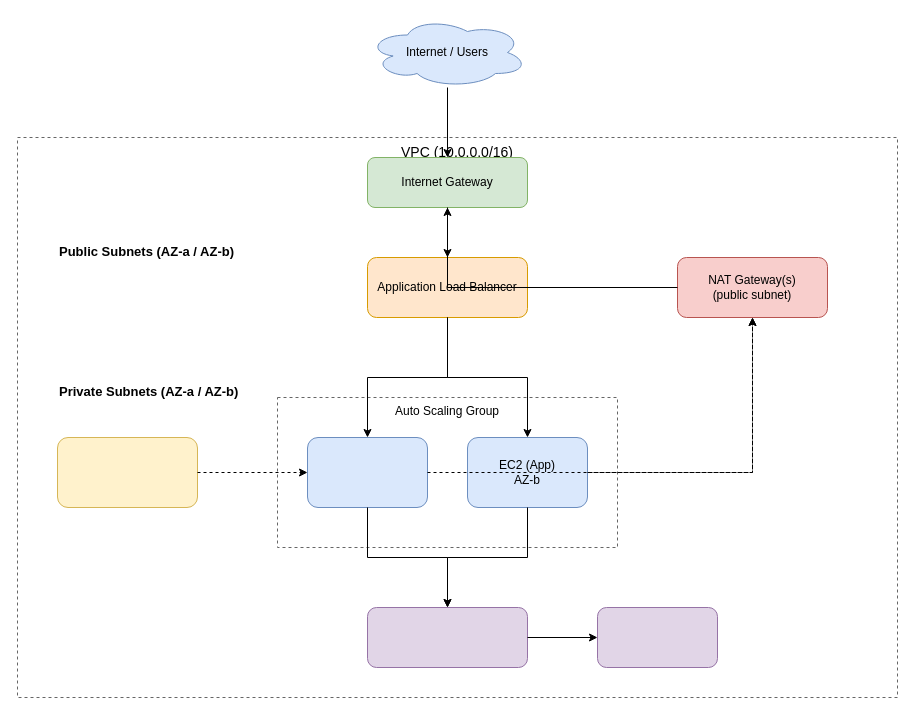
Some shapes in this 915 by 715 pixel diagram are drawn without their labels. Each missing label, with the centre of its shape:
"CloudWatch (Logs, Metrics, Alarms)" goes at (x=447, y=637).
"EC2 (App) AZ-a" goes at (x=367, y=472).
"IAM Role (SSM + CloudWatch)" goes at (x=127, y=472).
"SNS Topic (Alerts)" goes at (x=657, y=637).
